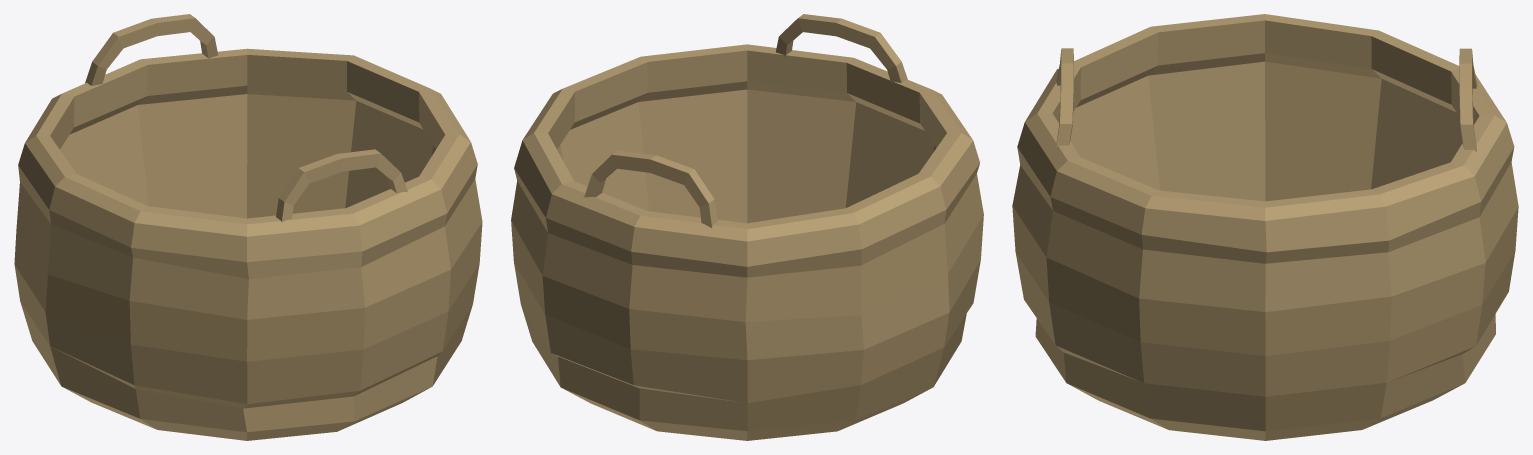
File: SM_Prop_Basket_03.fbx
3 views of the same model, side by side, from view 1: azimuth 30°, elevation 25°; view 2: azimuth 150°, elevation 25°; view 3: azimuth 270°, elevation 25° (orthographic). The views are drawn at different scales.
Parts seen in each view (by area): view 1: SM_Prop_Basket_03; view 2: SM_Prop_Basket_03; view 3: SM_Prop_Basket_03.
Boxes of the visible parts, x1=… form: SM_Prop_Basket_03: x1=14, y1=14, x2=482, y2=440; SM_Prop_Basket_03: x1=511, y1=14, x2=983, y2=440; SM_Prop_Basket_03: x1=1012, y1=14, x2=1518, y2=440.
Size of the model in its own units: 116 by 76.05 by 117.
